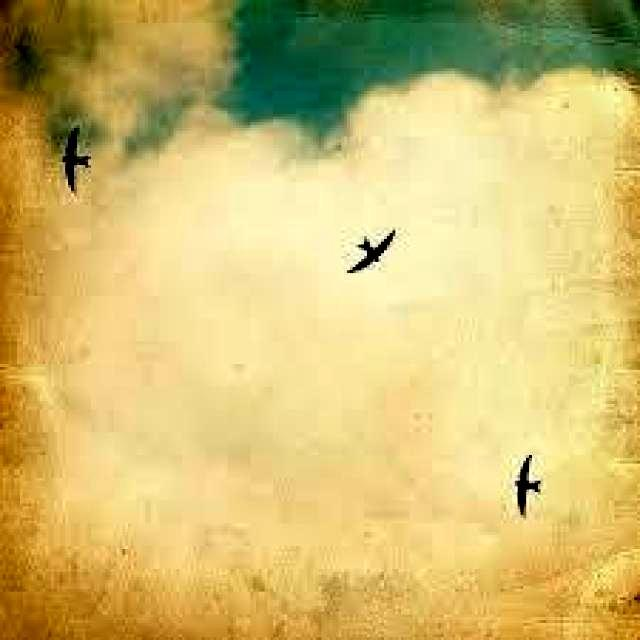bird: (58, 121, 95, 196), (348, 222, 396, 278), (510, 449, 544, 518)
